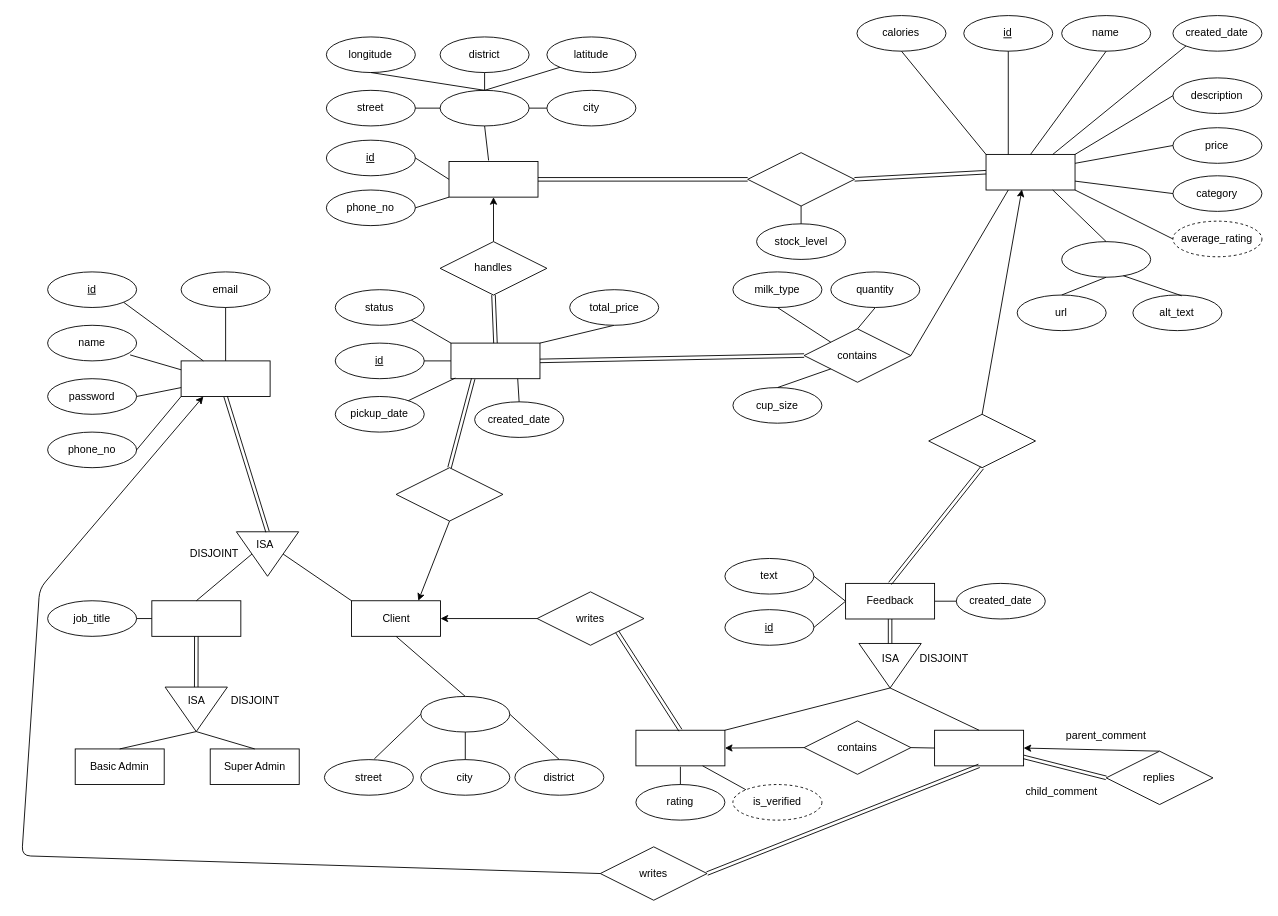
Image size: 1278x916. Some labels were removed from this diagram. Here are the shapes that lost their labels. From the top down, the centre of each, then its label:
At (484,107): "location".
At (493,179): "Store".
At (800,179): "sells".
At (1030,172): "Product".
At (1106,259): "image".
At (225,378): "User".
At (495,360): "Order".
At (982,440): "has".
At (449,494): "places".
At (196,618): "Administrator".
At (465,714): "address".
At (680,747): "Review".
At (979,747): "Comment".
